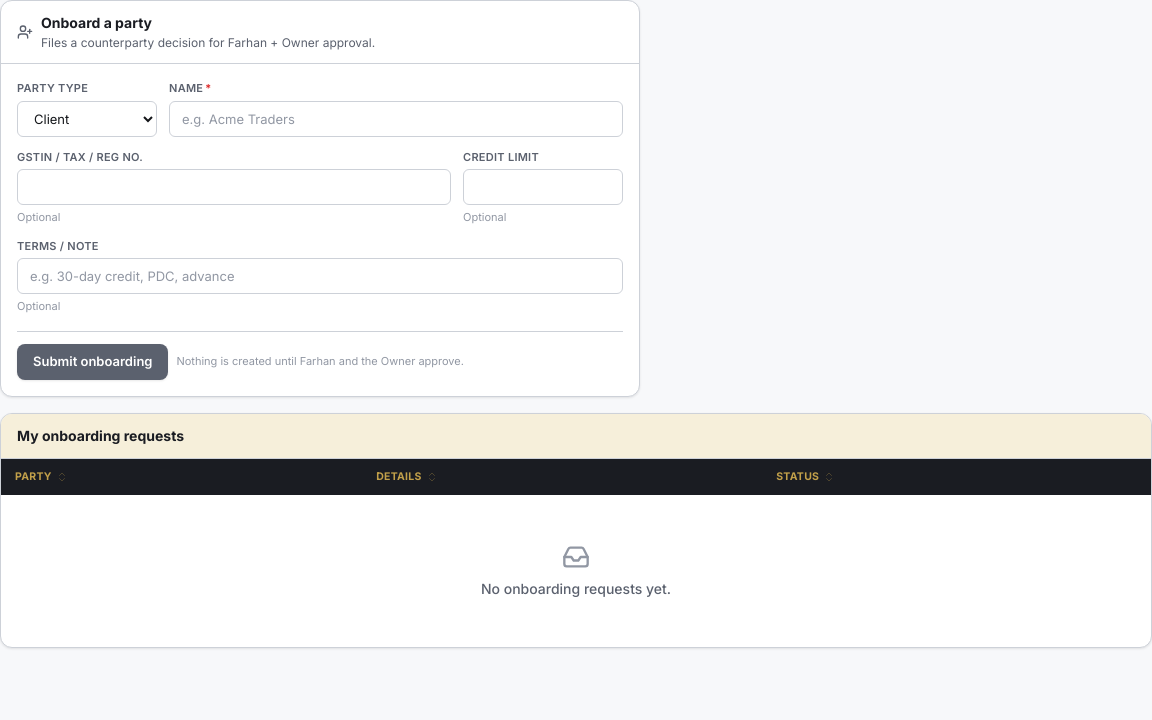
Scenario: Onboarding › files a counterparty decision with a composed onboarding note
In the field named "Party name": (396, 118) top-left (169, 100), bottom-right (623, 136), type "ACME Ltd"
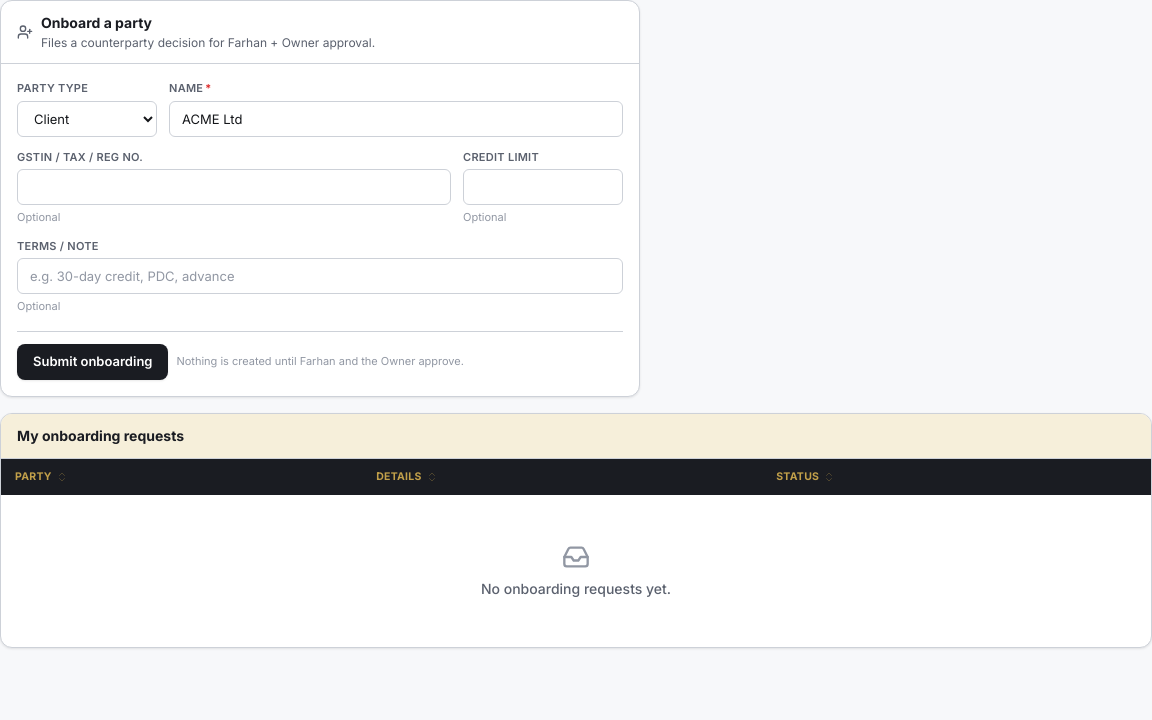
In the number field named "Credit limit": (543, 187) top-left (463, 169), bottom-right (623, 205), type "200000"
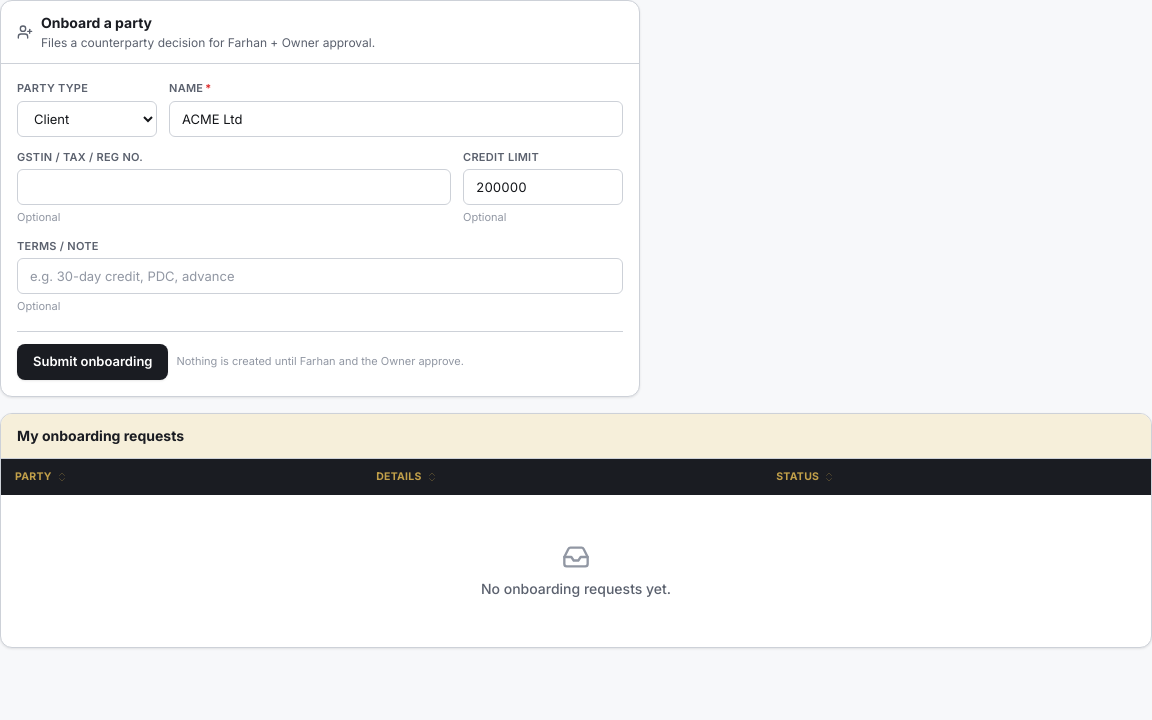
In the field named "Terms": (320, 276) top-left (17, 258), bottom-right (623, 294), type "30-day credit"
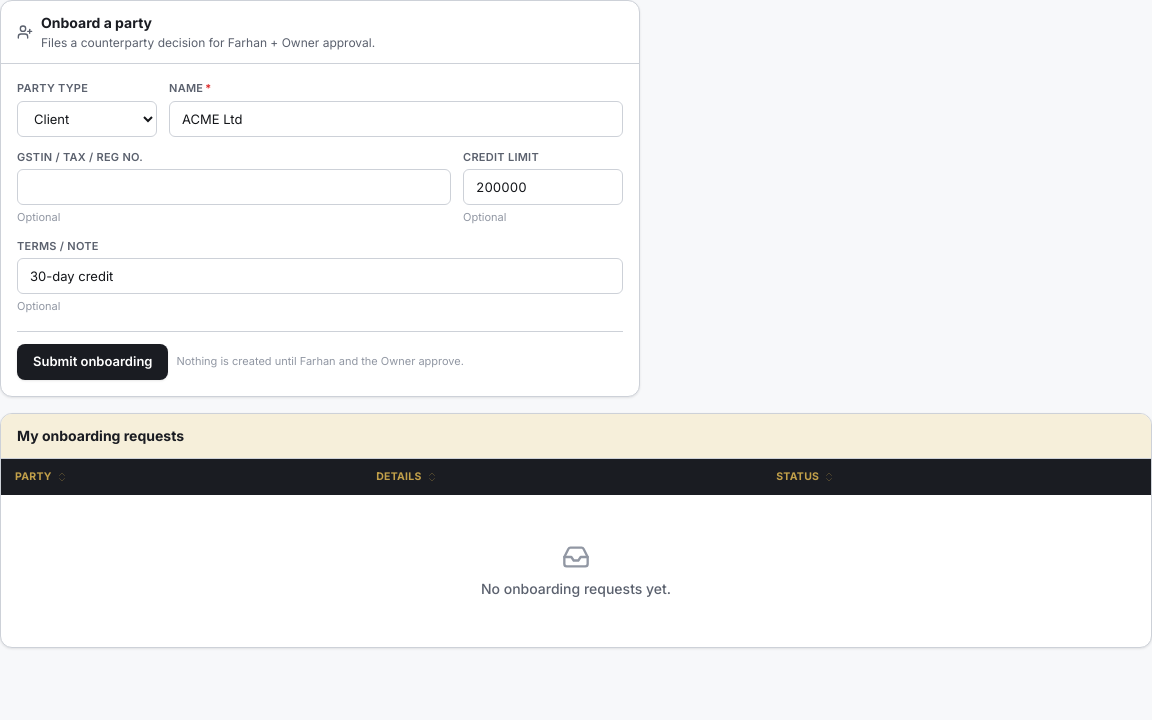
Click the button "Submit onboarding": (93, 362) top-left (17, 344), bottom-right (168, 380)
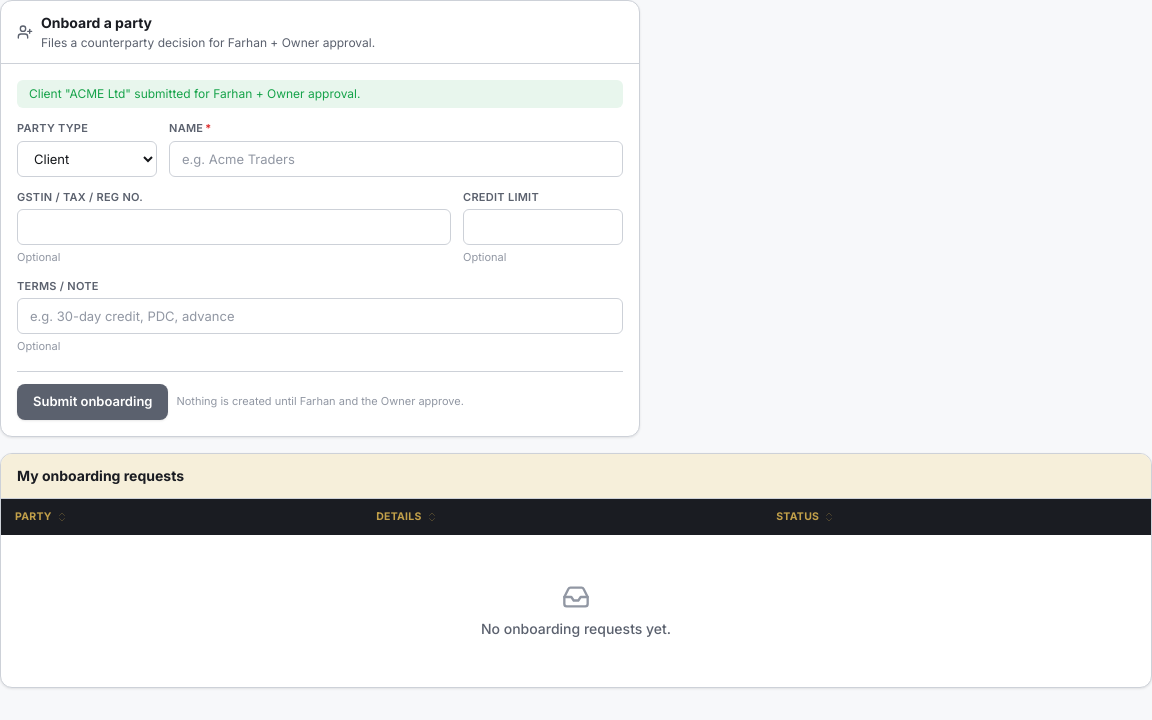
Now the message shows "submitted for Farhan + Owner approval", box top-left (29, 86), bottom-right (360, 101)
